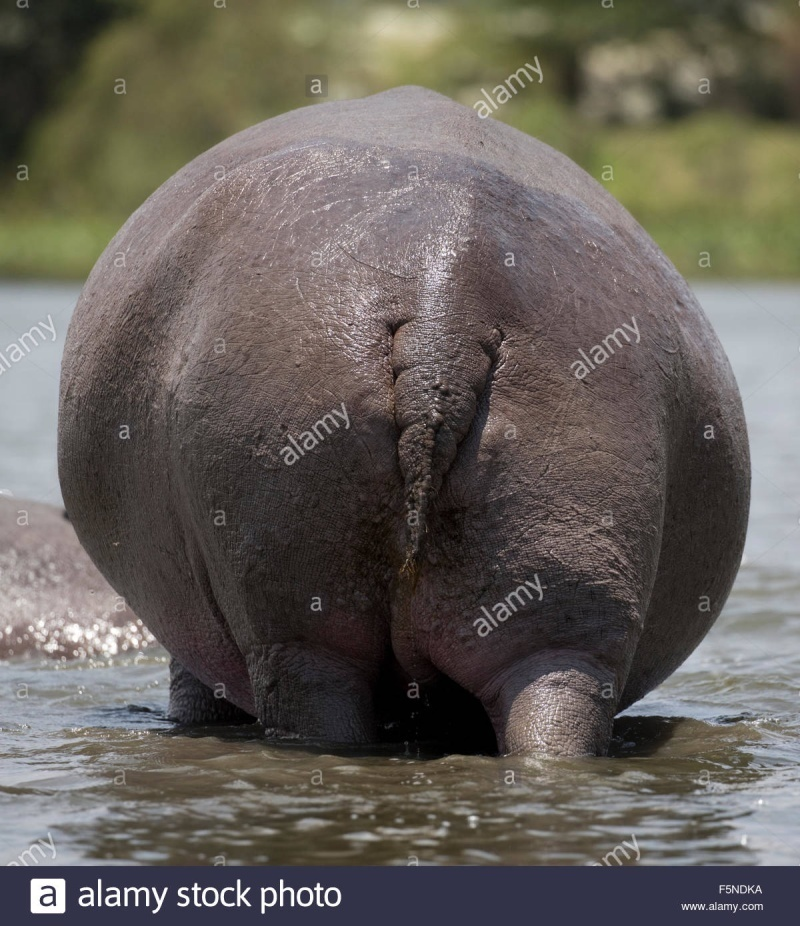hipopotamo: (45, 82, 761, 780)
